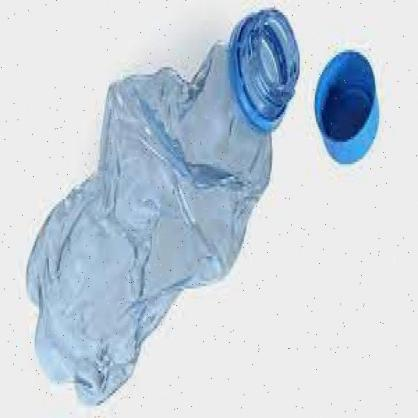bottle: (22, 8, 303, 408)
cap: (312, 48, 380, 166)
